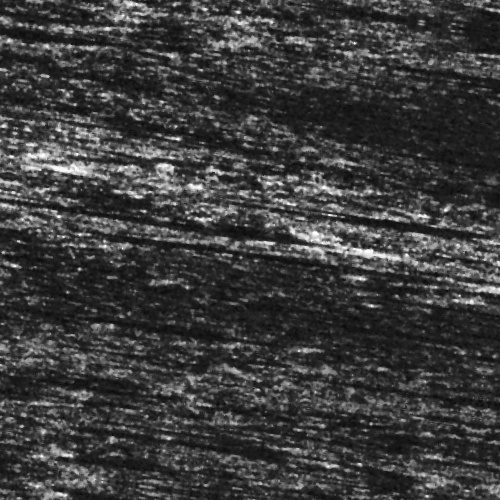object: (289, 223, 446, 242), (408, 243, 500, 260), (168, 396, 241, 413), (261, 332, 354, 341), (0, 49, 83, 58), (293, 446, 366, 451), (471, 197, 500, 208), (335, 257, 366, 262), (276, 437, 317, 440), (465, 422, 496, 425)
shadow: (29, 223, 367, 242), (157, 243, 491, 260), (24, 396, 204, 413), (260, 197, 500, 208), (44, 332, 308, 341), (197, 304, 500, 311), (412, 37, 500, 50), (397, 270, 500, 281), (372, 318, 500, 325), (151, 446, 330, 451), (209, 0, 500, 3), (245, 14, 500, 17), (117, 437, 296, 440), (308, 422, 480, 425), (264, 257, 350, 262), (361, 364, 500, 367), (0, 49, 42, 58)
